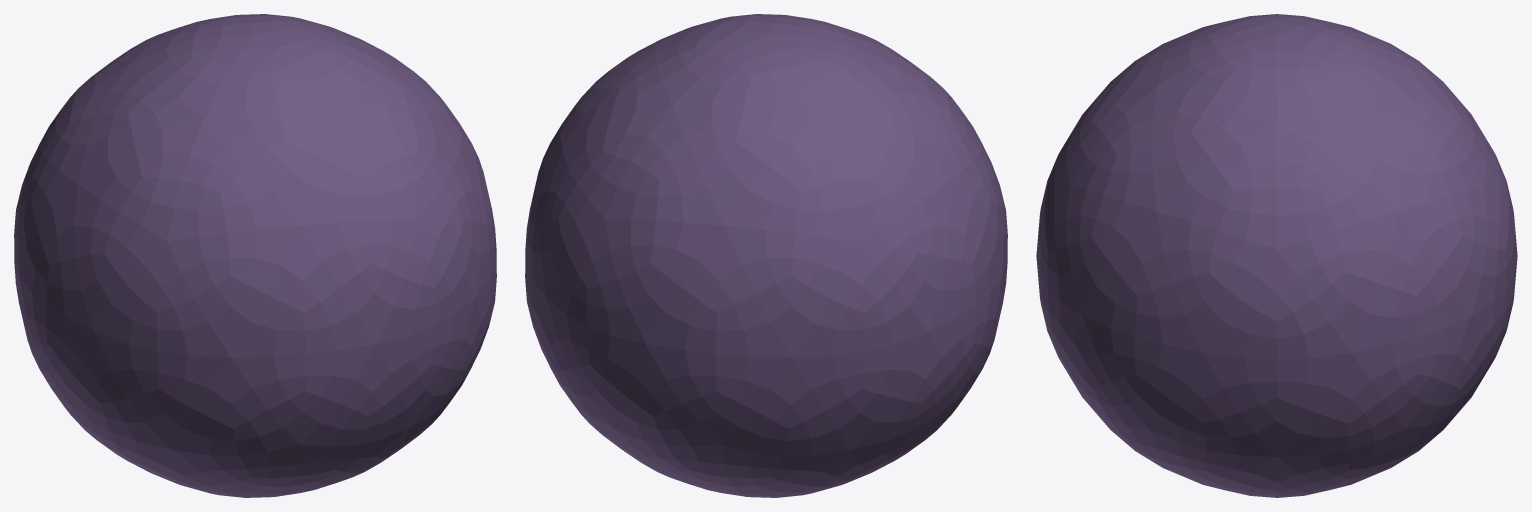
The model's file is GrowingPlanet.fbx.
3 renders of one model, left to right at view 1: azimuth 30°, elevation 25°; view 2: azimuth 150°, elevation 25°; view 3: azimuth 270°, elevation 25°, orthographic.
Parts seen in each view (by area): view 1: Icosphere.001; view 2: Icosphere.001; view 3: Icosphere.001.
Boxes of the visible parts, <box> form: Icosphere.001: <box>14,14,496,497</box>; Icosphere.001: <box>525,14,1007,497</box>; Icosphere.001: <box>1036,14,1517,497</box>.
Bounding box in the file's own units: 347 × 349 × 345.
